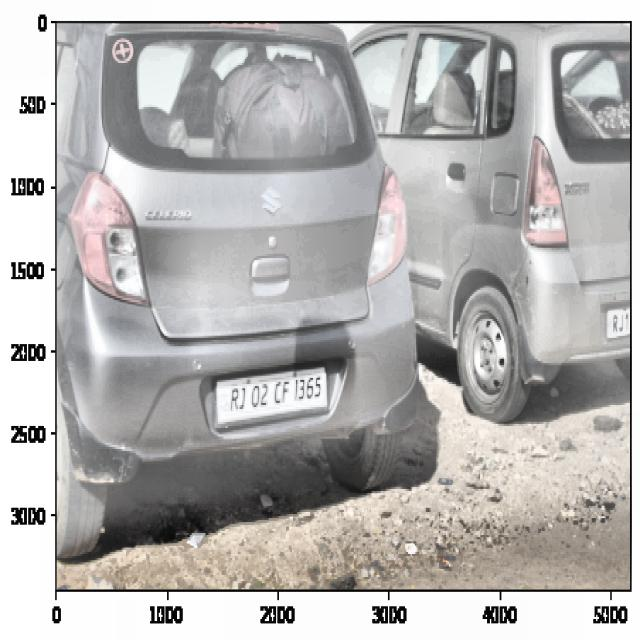license_plate: (225, 370, 328, 416)
